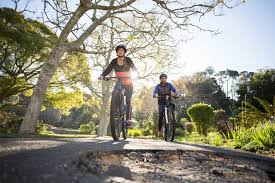pothole: (77, 145, 275, 182)
